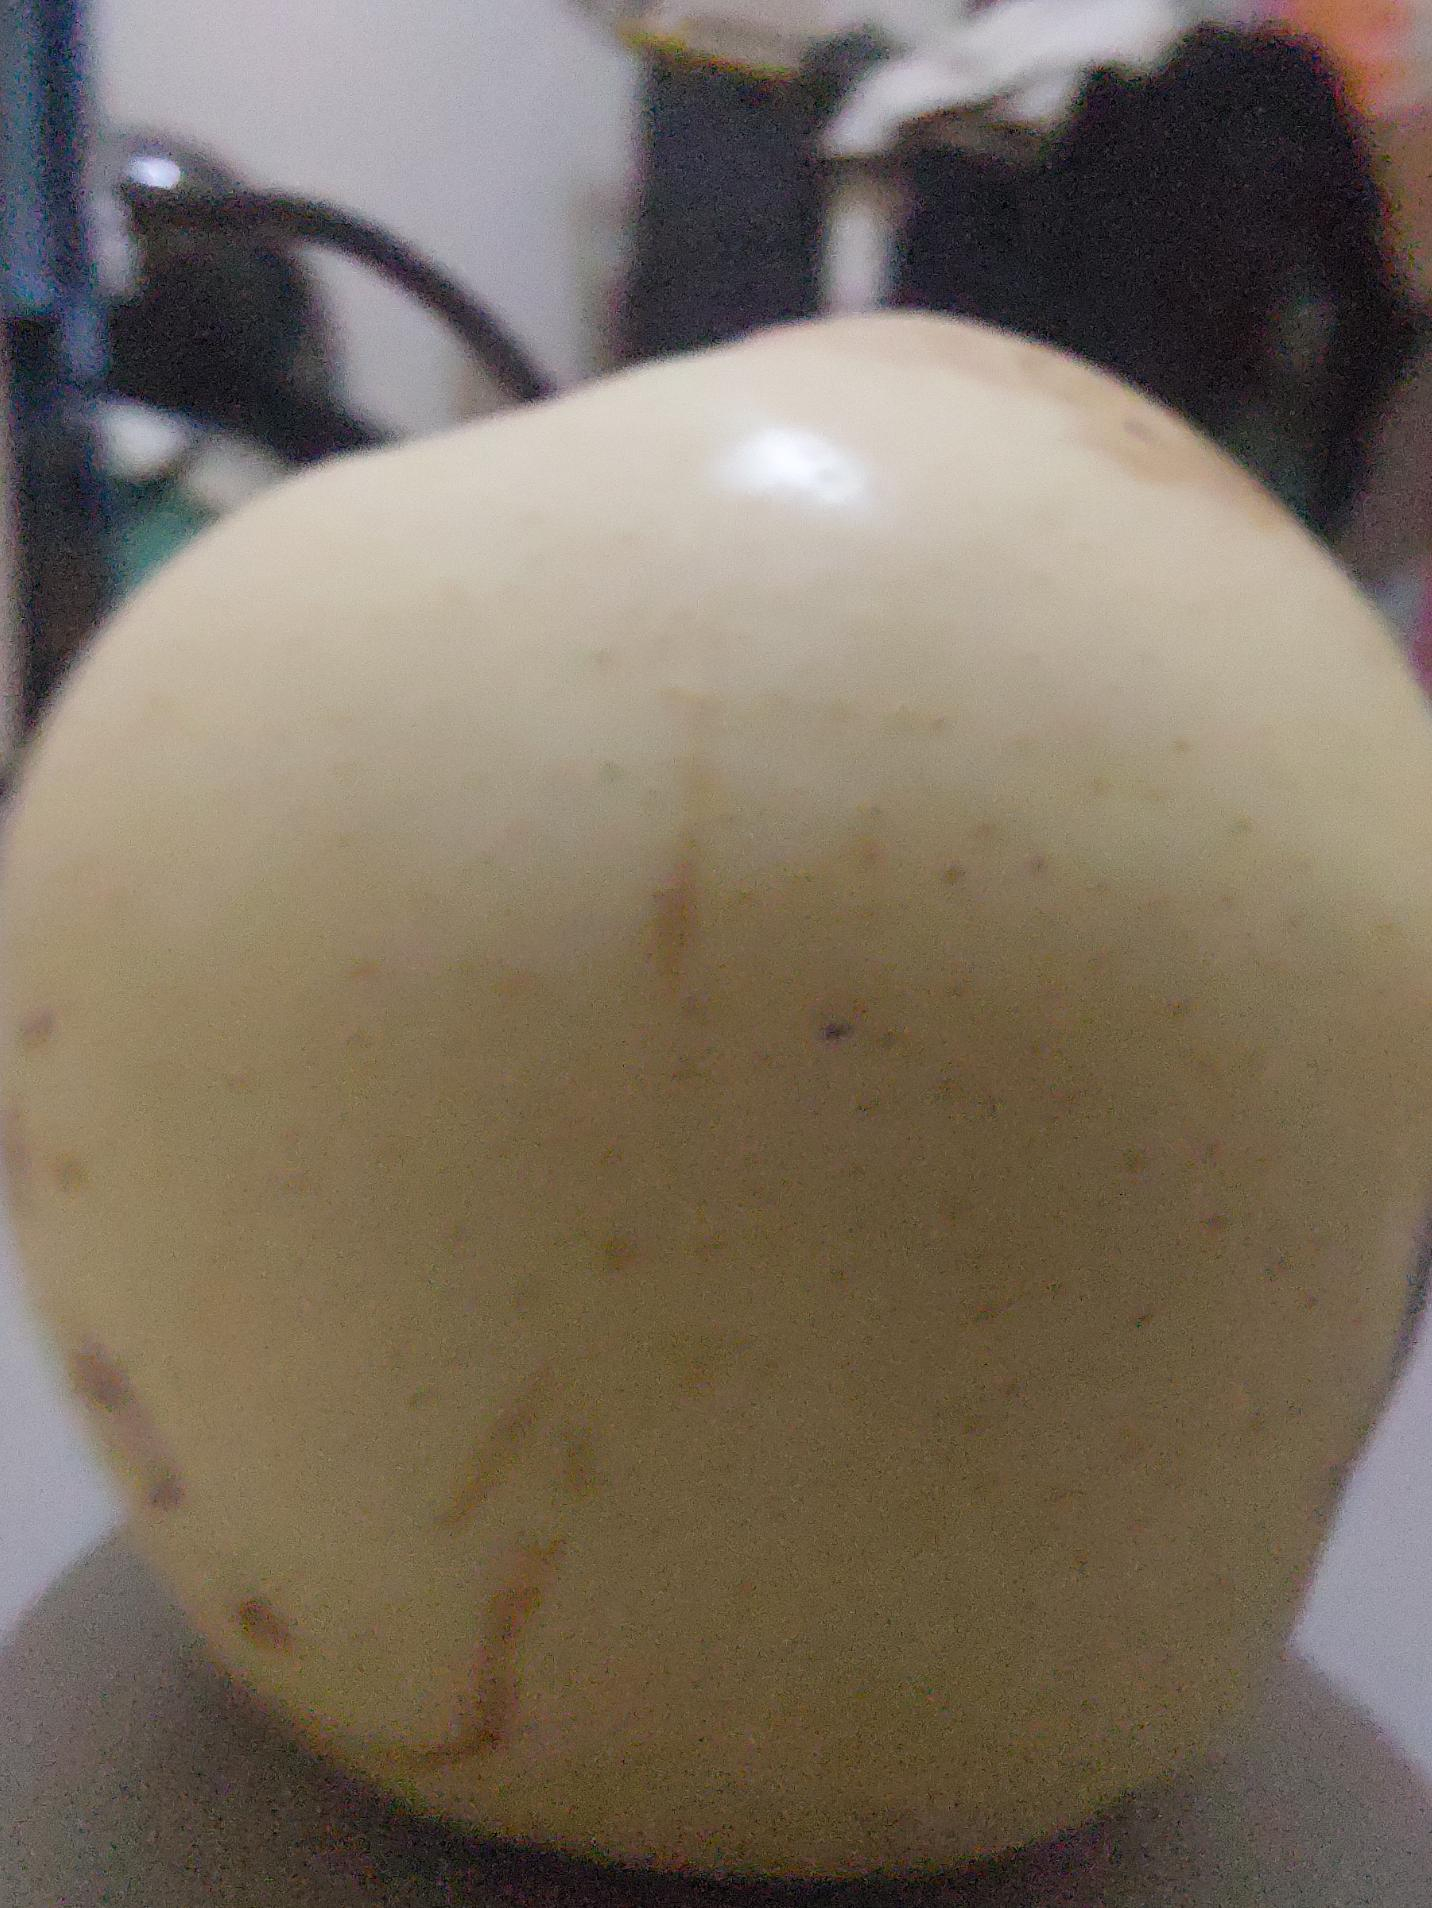Bad Pear: (0, 310, 1432, 1889)
